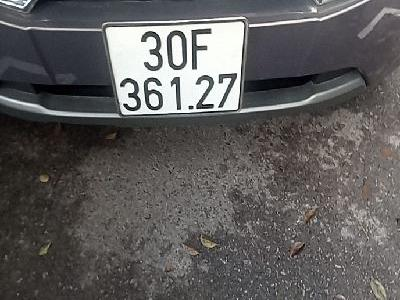number: (103, 22, 243, 114)
